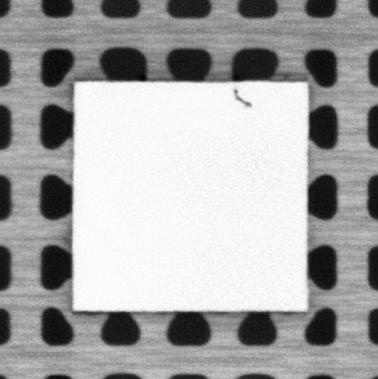DIE_INK: (230, 84, 251, 108)
